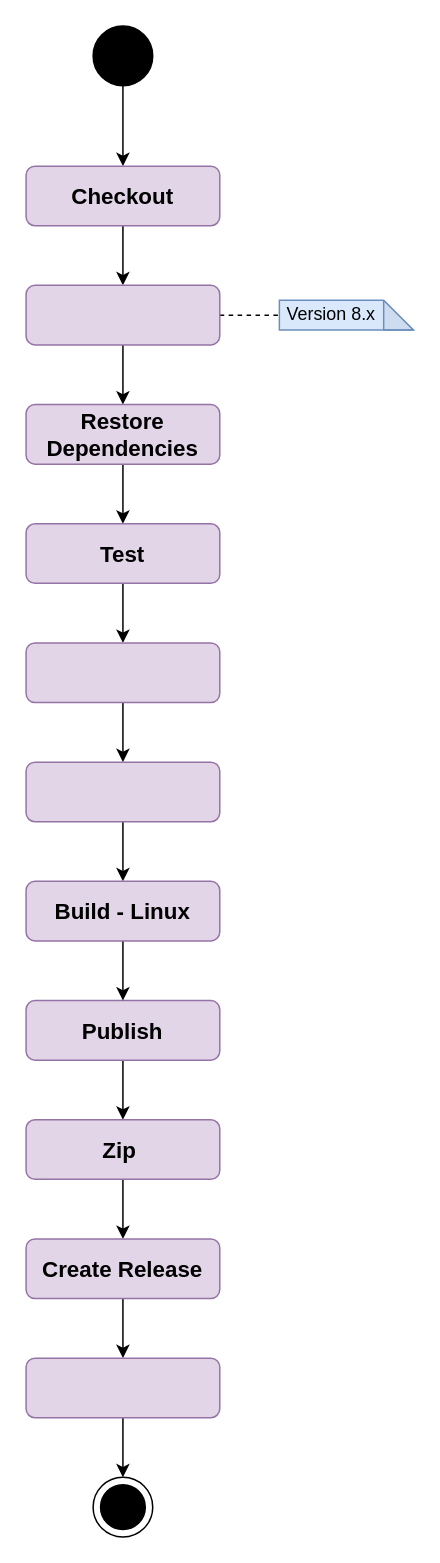
This 440x1563 diagram has some shape labels left out. Each missing label, with the centre of its shape:
"Build - MacOS" belongs at point 122,791.
"Build - Windows" belongs at point 122,672.
"Setup .NET" belongs at point 122,314.
"Upload Release" belongs at point 122,1387.
